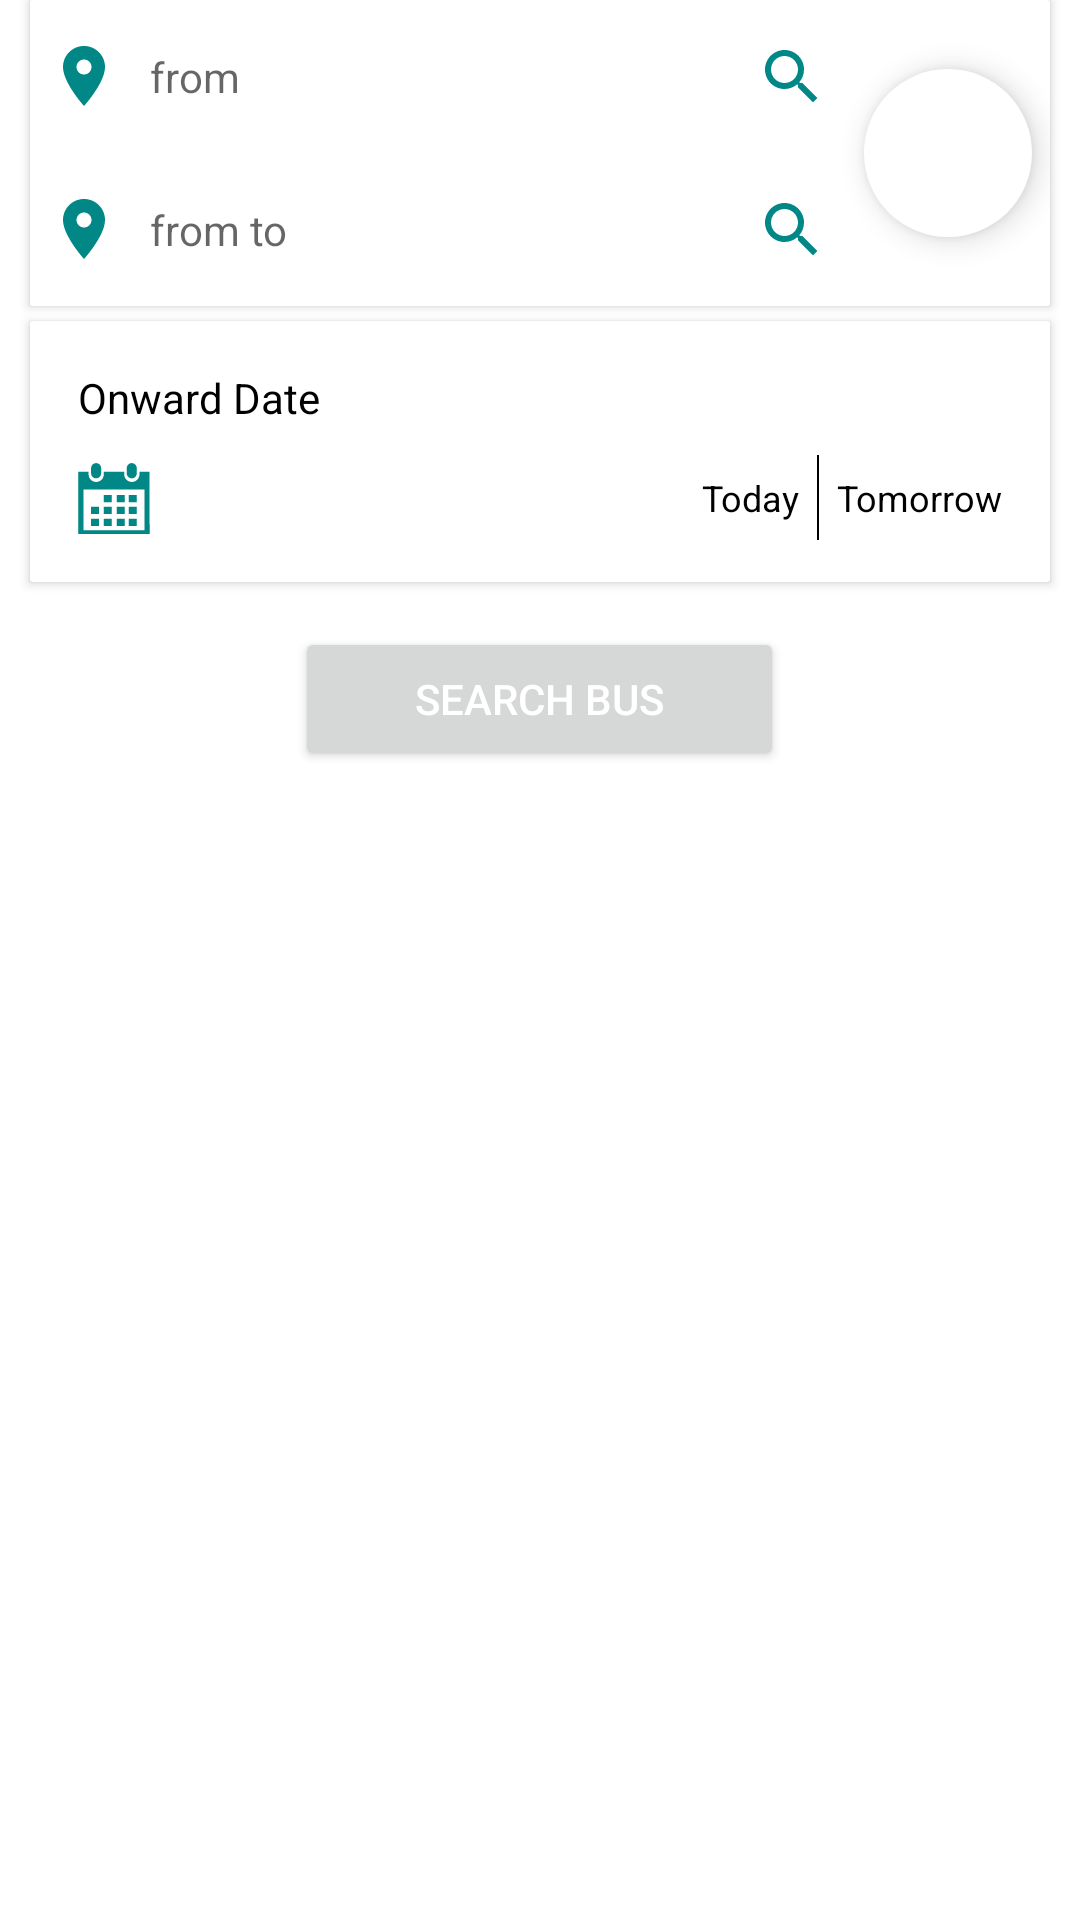

Icon click points for this 1080×1920 phone screenshot, format (x,y):
location: (84,76), (84,229)
search: (791,76), (791,229)
